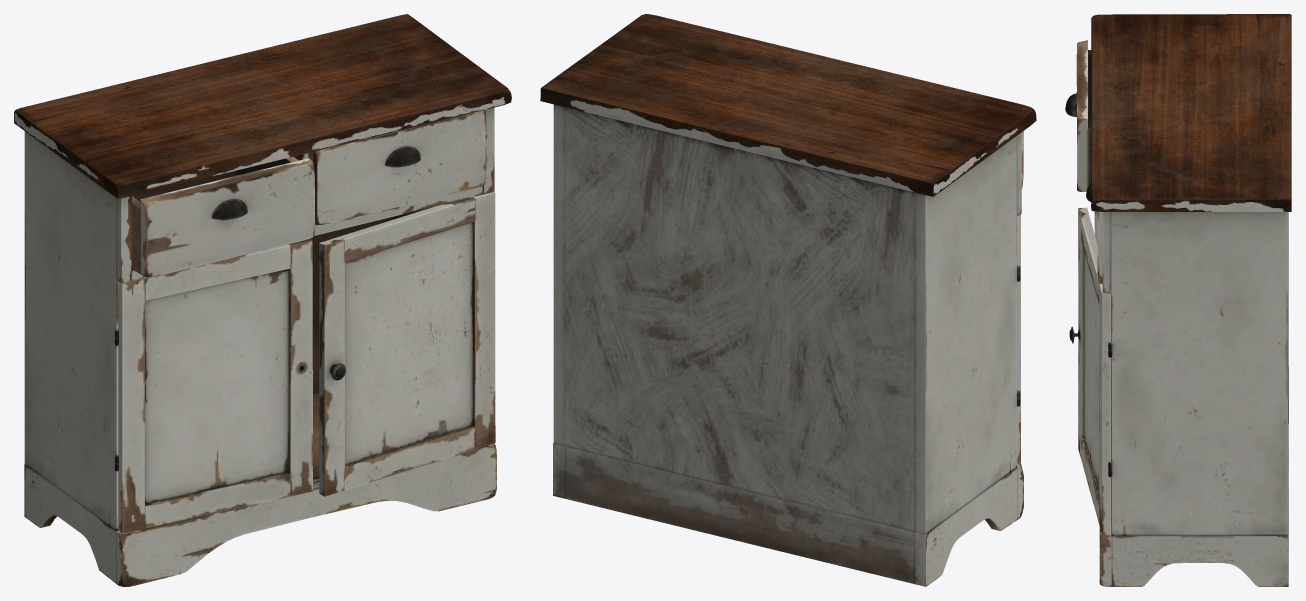
The model's file is painted_wooden_cabinet.glb.
The picture shows the model from 3 angles, left to right: view 1: azimuth 30°, elevation 25°; view 2: azimuth 150°, elevation 25°; view 3: azimuth 270°, elevation 25°; orthographic projection. The views are drawn at different scales.
Parts seen in each view (by area): view 1: painted_wooden_cabinet, painted_wooden_cabinet_door_01, painted_wooden_cabinet_door_02, painted_wooden_cabinet_drawer_01, painted_wooden_cabinet_drawer_02; view 2: painted_wooden_cabinet, painted_wooden_cabinet_door_01; view 3: painted_wooden_cabinet, painted_wooden_cabinet_door_02, painted_wooden_cabinet_drawer_01, painted_wooden_cabinet_drawer_02.
Part boxes in pixels (left/top/right/bottom): painted_wooden_cabinet: left=14, top=14, right=511, bottom=586; painted_wooden_cabinet_door_01: left=118, top=238, right=312, bottom=533; painted_wooden_cabinet_door_02: left=319, top=192, right=495, bottom=496; painted_wooden_cabinet_drawer_01: left=132, top=156, right=314, bottom=277; painted_wooden_cabinet_drawer_02: left=313, top=110, right=485, bottom=224; painted_wooden_cabinet: left=540, top=14, right=1036, bottom=586; painted_wooden_cabinet_door_01: left=1017, top=214, right=1020, bottom=465; painted_wooden_cabinet: left=1091, top=14, right=1291, bottom=586; painted_wooden_cabinet_door_02: left=1069, top=207, right=1110, bottom=535; painted_wooden_cabinet_drawer_01: left=1065, top=40, right=1091, bottom=191; painted_wooden_cabinet_drawer_02: left=1086, top=183, right=1102, bottom=277.
Size of the model in its own units: 1.19 by 1.18 by 0.6166.
Materials: 1 (1 with a texture image).
